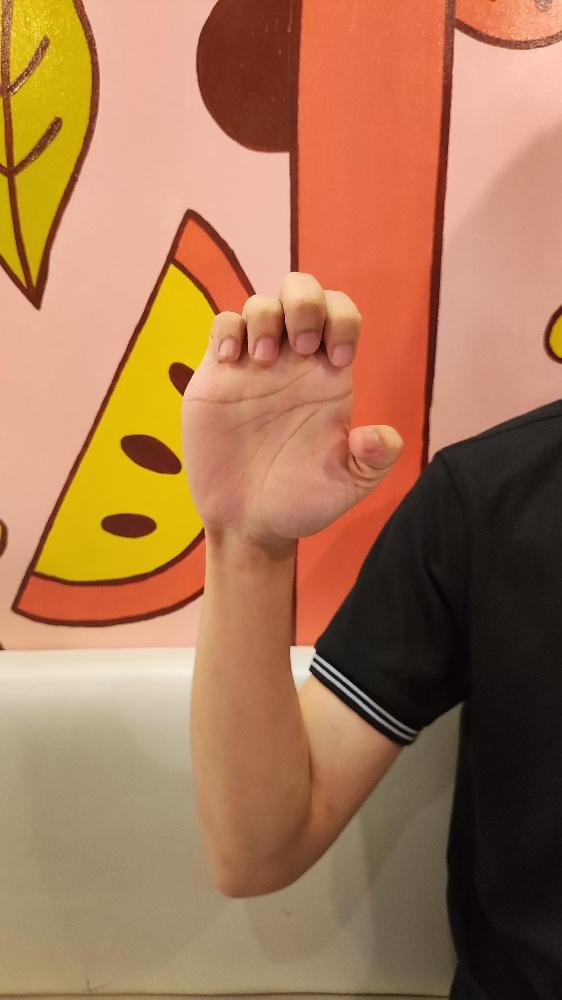e: (178, 269, 405, 548)
